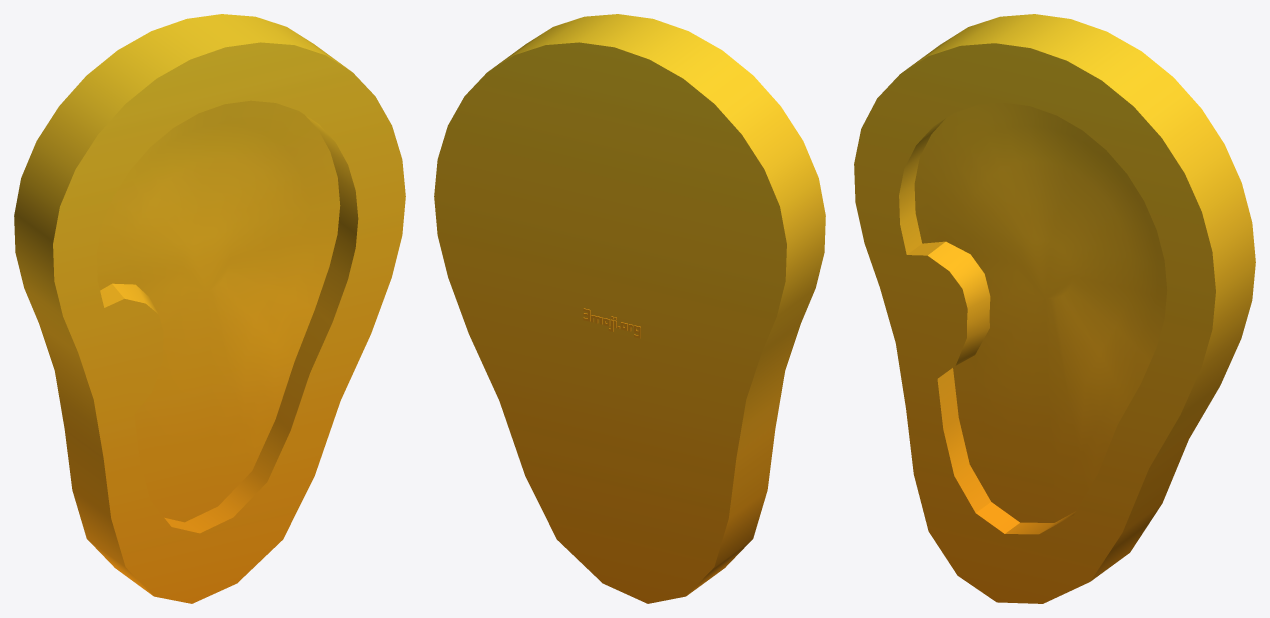
File: ear.fbx
The picture shows the model from 3 angles, left to right: view 1: azimuth 30°, elevation 25°; view 2: azimuth 150°, elevation 25°; view 3: azimuth 330°, elevation 25°; orthographic projection. The views are drawn at different scales.
Visible parts, largest first — view 1: Circle.274; view 2: Circle.274; view 3: Circle.274.
Boxes of the visible parts, box(x1,y1,x2,y2) form: Circle.274: box(14, 14, 405, 603); Circle.274: box(434, 14, 825, 603); Circle.274: box(854, 14, 1255, 603).
Size of the model in its own units: 142 by 211 by 27.46.
Materials: 2 (2 with a texture image).
